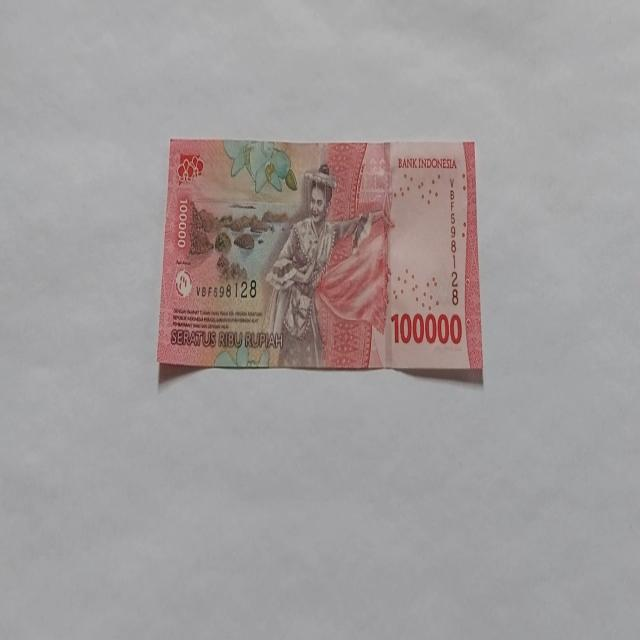seratus ribu rupiah: (156, 137, 483, 379), (260, 162, 376, 369)
